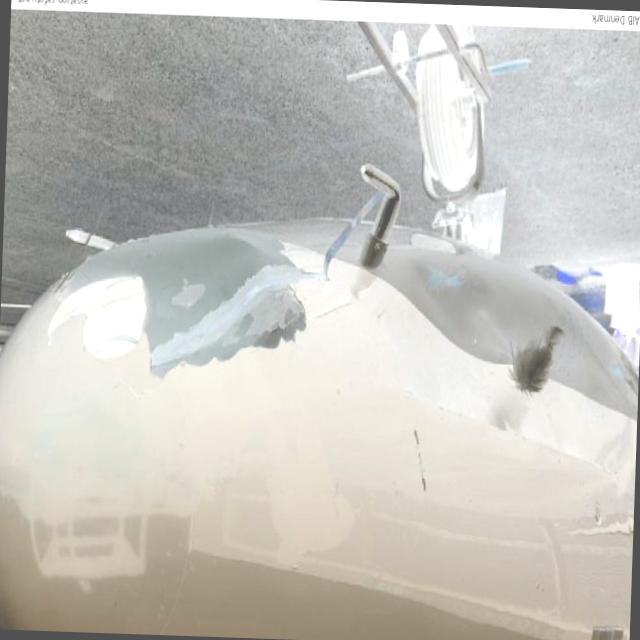crack: (513, 326, 565, 391)
dent: (488, 337, 637, 555), (132, 255, 327, 378), (403, 256, 509, 348), (48, 276, 146, 361)
